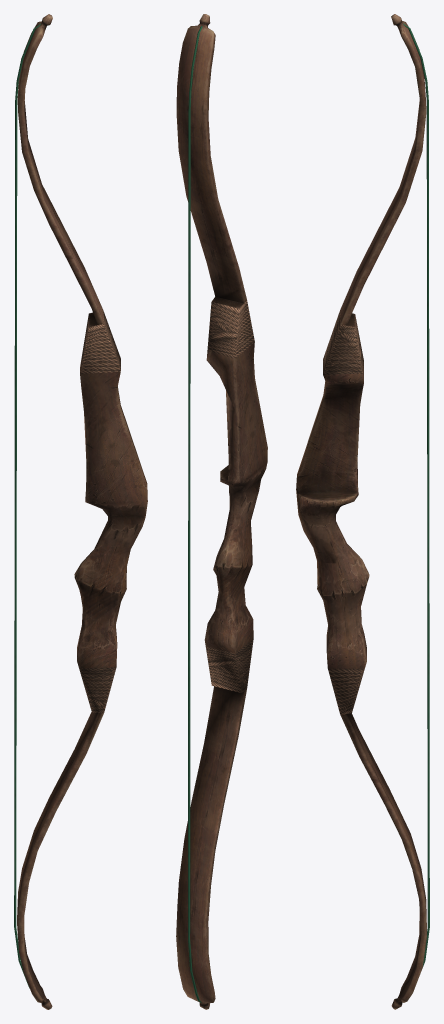
File: лук.fbx
3 views of the same model, side by side, from view 1: azimuth 90°, elevation 25°; view 2: azimuth 150°, elevation 25°; view 3: azimuth 270°, elevation 25° (orthographic).
Parts seen in each view (by area): view 1: v_Bow.002; view 2: v_Bow.002; view 3: v_Bow.002.
Boxes of the visible parts, left/top/right/bottom form: v_Bow.002: left=14, top=14, right=147, bottom=1009; v_Bow.002: left=176, top=14, right=267, bottom=1009; v_Bow.002: left=296, top=14, right=429, bottom=1009.
Bounding box in the file's own units: 3.14 × 92.32 × 11.25.
1 material, 1 textured.
